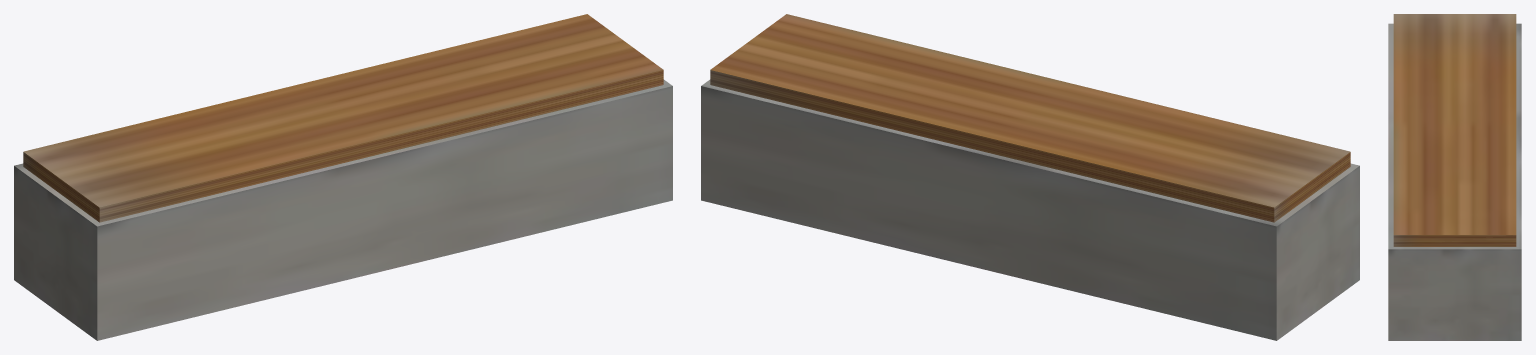
File: banc_beton_lod2.glb
The picture shows the model from 3 angles, left to right: view 1: azimuth 30°, elevation 25°; view 2: azimuth 150°, elevation 25°; view 3: azimuth 270°, elevation 25°; orthographic projection. The views are drawn at different scales.
Visible parts, largest first — view 1: banc_beton; view 2: banc_beton; view 3: banc_beton.
Part boxes in pixels (box(x1,y1,x2,y2)): banc_beton: box(14, 14, 672, 340); banc_beton: box(701, 14, 1359, 340); banc_beton: box(1388, 14, 1521, 340).
Size of the model in its own units: 2 by 0.4299 by 0.5001.
Materials: 1 (1 with a texture image).
